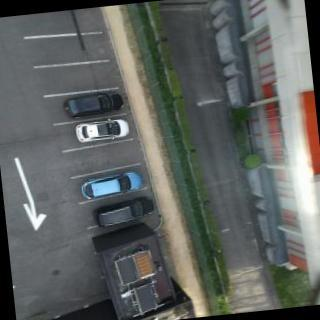car: (88, 194, 158, 230), (80, 169, 147, 201), (60, 89, 128, 120), (73, 115, 134, 146)
parking-space: (23, 27, 111, 74), (31, 57, 122, 101), (60, 135, 144, 181)
